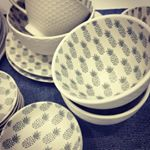cups: (8, 1, 91, 39)
